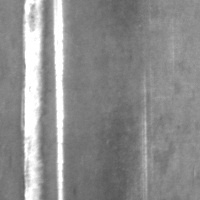scratches: (21, 1, 46, 200), (51, 1, 68, 200), (137, 73, 151, 199)
